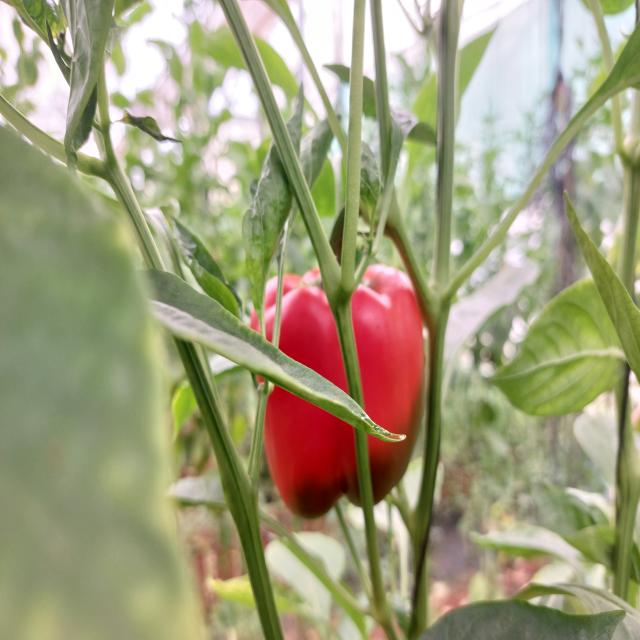Red-Ready-to-Harvest: (244, 261, 440, 528)
